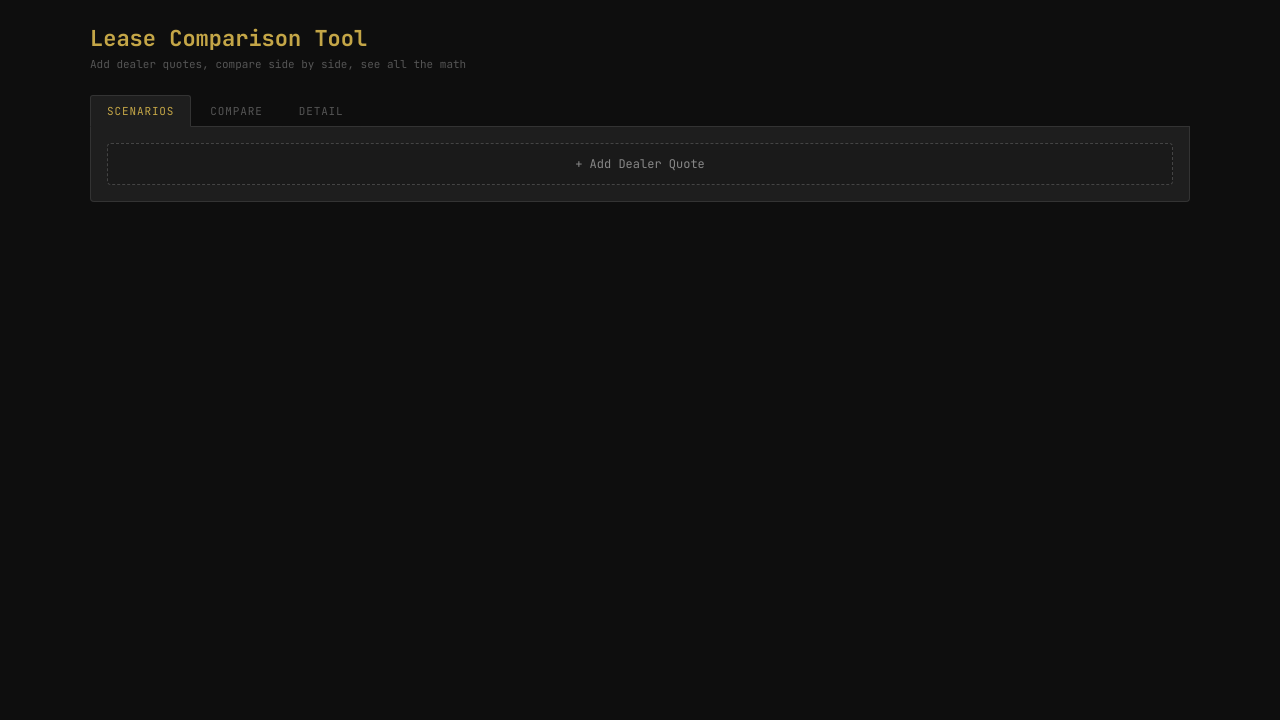
App › adds multiple scenarios with incrementing names
What coordinates should you click on to do the following:
click the button "+ Add Dealer Quote"
I would click on:
 (640, 164)
Its box is [107, 143, 1173, 185].
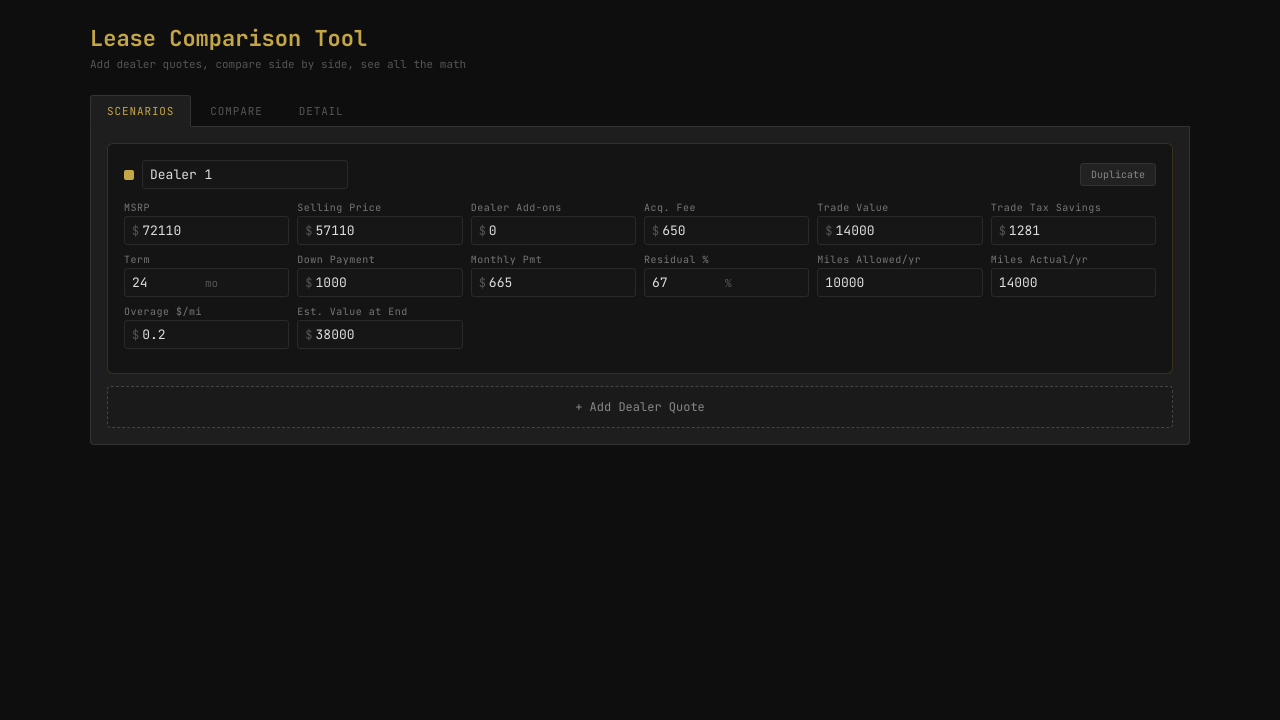
What coordinates should you click on to do the following:
click the button "+ Add Dealer Quote"
I would click on:
 (640, 407)
Its box is [107, 386, 1173, 428].
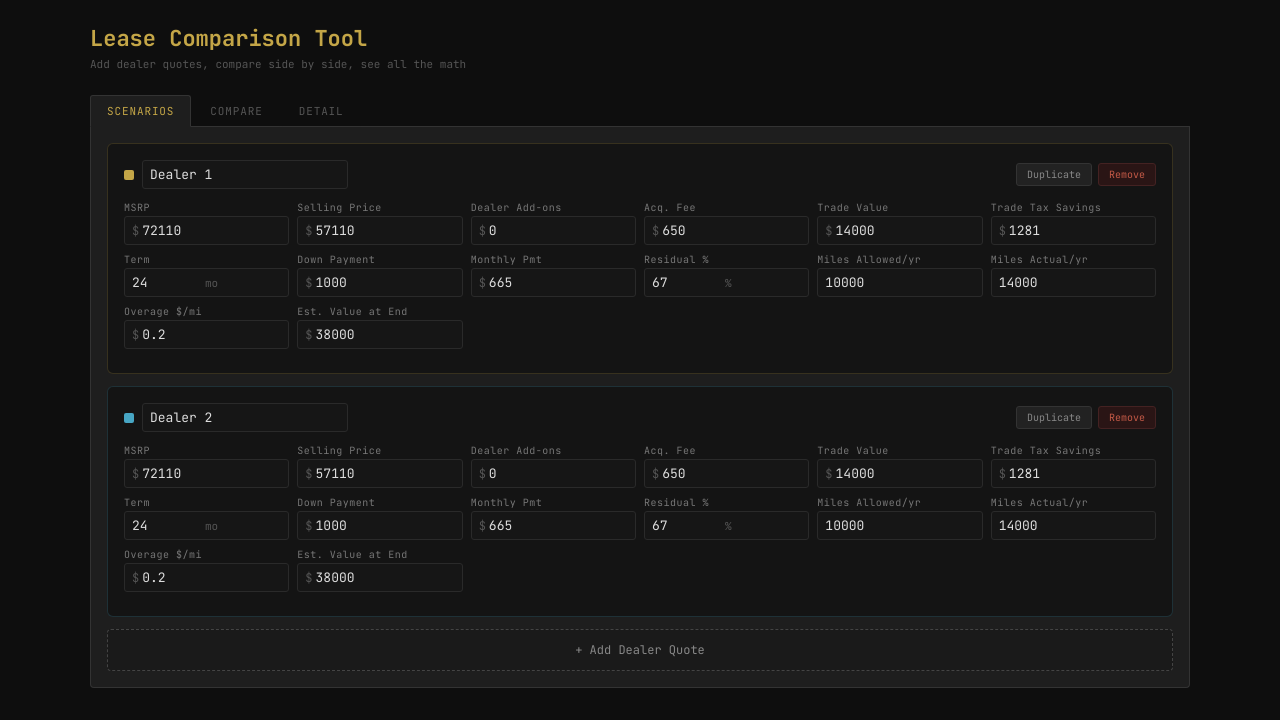
Expected: the 1st field showing "Dealer 1" is shown, [142, 160, 348, 189]
Expected: the 2nd field showing "Dealer 2" is shown, [142, 403, 348, 432]
